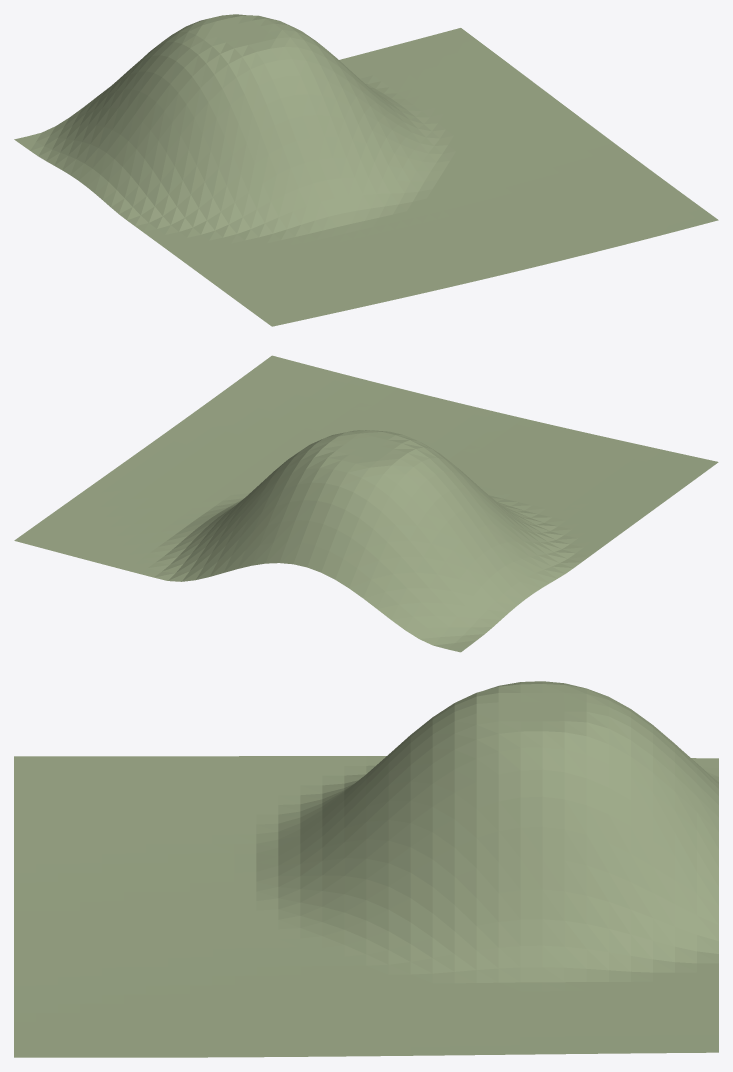
Rendered from expanse-18-4.glb.
3 views of the same model, one above another, from view 1: azimuth 30°, elevation 25°; view 2: azimuth 150°, elevation 25°; view 3: azimuth 270°, elevation 25° (orthographic). The views are drawn at different scales.
Parts seen in each view (by area): view 1: expanse-18-4; view 2: expanse-18-4; view 3: expanse-18-4.
Part boxes in pixels (box(x1,y1,x2,y2)): expanse-18-4: box(14, 14, 718, 326); expanse-18-4: box(14, 355, 718, 652); expanse-18-4: box(14, 681, 718, 1057).
Bounding box in the file's own units: 256 × 65.19 × 256.
